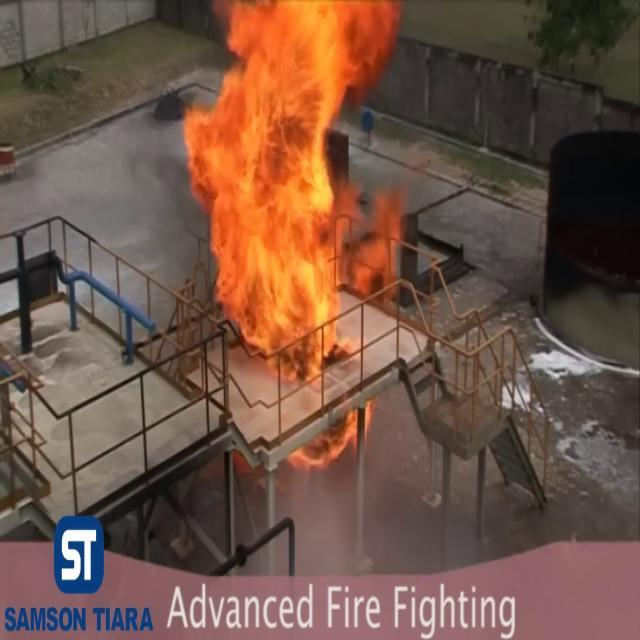Fire: (180, 1, 412, 378)
